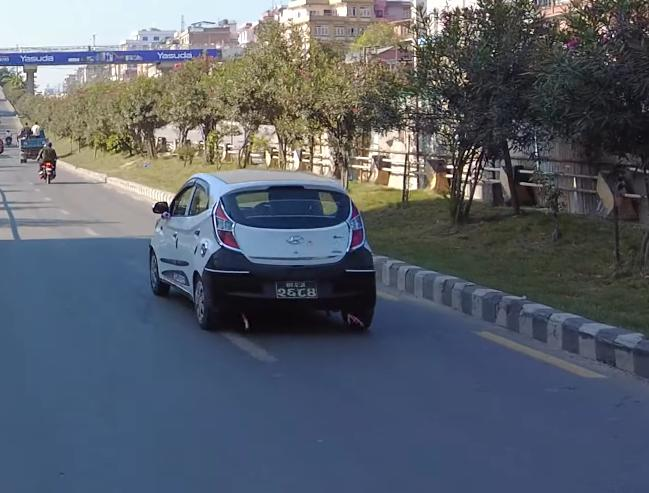bike: (40, 151, 57, 187)
taxi: (141, 158, 386, 336)
